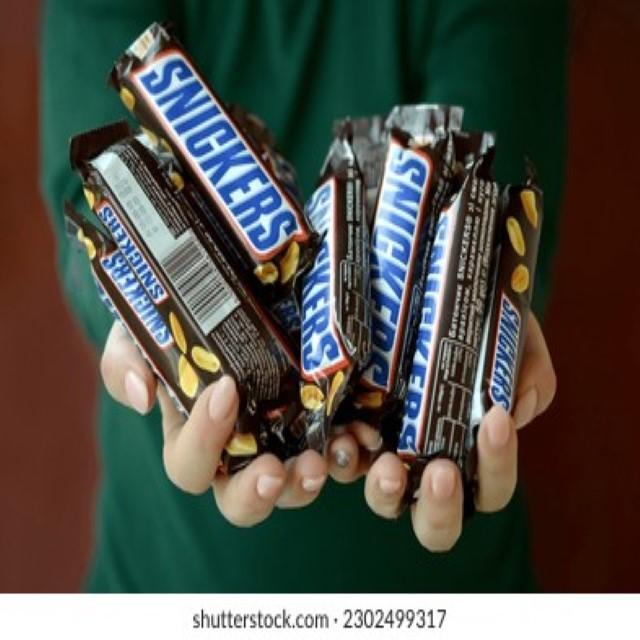snickers_chocolate: (110, 13, 317, 272), (67, 168, 255, 452), (347, 102, 463, 442), (395, 160, 510, 478), (472, 187, 545, 427), (297, 160, 362, 427)
